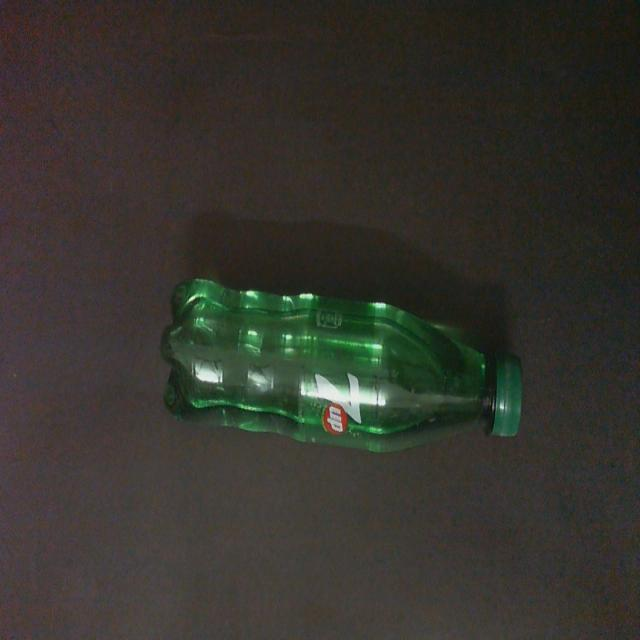non-defect: (158, 270, 526, 458)
